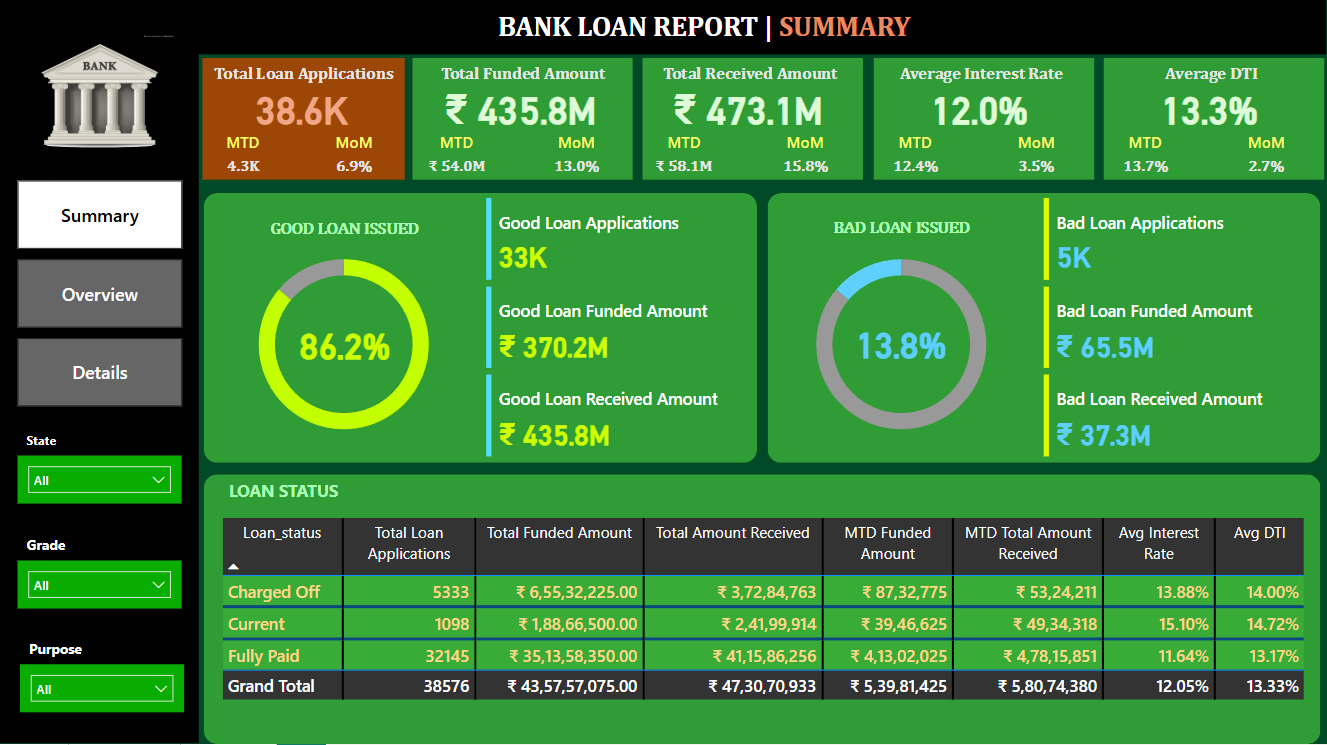

What the dashboard file says about the page in this screenshot:
{"tool":"powerbi","page":{"name":"Summary","canvas":[1280,720],"ordinal":0},"visuals":[{"type":"shape","box":[0,48.8,191.9,670.9],"z":0},{"type":"shape","box":[195.4,58.1,195.3,117.4],"z":0,"group":"g1"},{"type":"shape","box":[398.2,58.1,212.5,117.4],"z":0,"group":"g2"},{"type":"shape","box":[620.3,58.1,212.8,117.4],"z":0,"group":"g3"},{"type":"shape","box":[842.6,58.1,212.8,117.4],"z":0,"group":"g4"},{"type":"shape","box":[1064.9,58.1,212.8,117.4],"z":0,"group":"g5"},{"type":"card","fields":{"Values":["bank_loan_data.Total Loan Applications"]},"box":[191.9,76.7,198.8,59.3],"z":1000,"group":"g1"},{"type":"card","fields":{"Values":["bank_loan_data.Total Funded Amount"]},"box":[394.4,76.7,216.3,59.3],"z":1000,"group":"g2"},{"type":"card","fields":{"Values":["bank_loan_data.Total Amount Received"]},"box":[614.5,76.7,216.3,59.3],"z":1000,"group":"g3"},{"type":"card","fields":{"Values":["bank_loan_data.Avg Interest Rate"]},"box":[836.8,76.7,216.3,59.3],"z":1000,"group":"g4"},{"type":"card","fields":{"Values":["bank_loan_data.Avg DTI"]},"box":[1059.1,76.7,216.3,59.3],"z":1000,"group":"g5"},{"type":"shape","box":[196.5,459.3,1077.9,260.5],"z":1000},{"type":"textbox","box":[195.4,58.1,195.3,37.2],"z":2000,"group":"g1"},{"type":"textbox","box":[398.2,58.1,212.5,37.2],"z":2000,"group":"g2"},{"type":"textbox","box":[618.3,58.1,212.5,37.2],"z":2000,"group":"g3"},{"type":"textbox","box":[840.6,58.1,212.5,37.2],"z":2000,"group":"g4"},{"type":"textbox","box":[1062.9,58.1,212.5,37.2],"z":2000,"group":"g5"},{"type":"shape","box":[196.5,188.4,534,260.5],"z":2000},{"type":"shape","box":[0,0,1280,54.7],"z":3000},{"type":"card","title":"MTD","fields":{"Values":["bank_loan_data.MTD Loan Applications"]},"box":[195.4,129,77.9,46.5],"z":3000,"group":"g1"},{"type":"card","title":"MTD","fields":{"Values":["bank_loan_data.MTD Funded Amount"]},"box":[398.2,129,84.7,46.5],"z":3000,"group":"g2"},{"type":"card","title":"MTD","fields":{"Values":["bank_loan_data.MTD Total Amount Received"]},"box":[618.3,129,84.7,46.5],"z":3000,"group":"g3"},{"type":"card","title":"MTD","fields":{"Values":["bank_loan_data.MTD Avg Interest Rate"]},"box":[840.6,129,84.7,46.5],"z":3000,"group":"g4"},{"type":"card","title":"MTD","fields":{"Values":["bank_loan_data.MTD Avg DTI"]},"box":[1062.9,129,84.7,46.5],"z":3000,"group":"g5"},{"type":"card","title":"MoM","fields":{"Values":["bank_loan_data.MoM Loan Applications"]},"box":[302.4,129,77.9,46.5],"z":4000,"group":"g1"},{"type":"card","title":"MoM","fields":{"Values":["bank_loan_data.MoM Total Funded Amount"]},"box":[514.2,129,84.9,46.5],"z":4000,"group":"g2"},{"type":"card","title":"MoM","fields":{"Values":["bank_loan_data.MoM Total Amount Received"]},"box":[734.7,129,84.7,46.5],"z":4000,"group":"g3"},{"type":"card","title":"MoM","fields":{"Values":["bank_loan_data.MoM Avg Interest Rate"]},"box":[957,129,84.7,46.5],"z":4000,"group":"g4"},{"type":"card","title":"MoM","fields":{"Values":["bank_loan_data.MoM Avg DTI"]},"box":[1179.3,129,84.7,46.5],"z":4000,"group":"g5"},{"type":"donutChart","fields":{"Category":["bank_loan_data.Good vs Bad Loan"],"Y":["bank_loan_data.Total Loan Applications"]},"box":[208.1,226.7,246.5,215.1],"z":4000},{"type":"textbox","box":[233.7,208.1,195.3,37.2],"z":5000},{"type":"card","fields":{"Values":["bank_loan_data.Good Loan %"]},"box":[267.4,308.1,130.2,52.3],"z":6000},{"type":"textbox","box":[475.6,5.8,438.4,43],"z":7000},{"type":"group","id":"g1","title":"Group 1","box":[191.9,58.1,198.8,117.4],"z":8000},{"type":"group","id":"g2","title":"Group 1","box":[394.4,58.1,216.3,117.4],"z":9000},{"type":"group","id":"g3","title":"Group 1","box":[614.5,58.1,218.6,117.4],"z":10000},{"type":"group","id":"g4","title":"Group 1","box":[836.8,58.1,218.6,117.4],"z":11000},{"type":"group","id":"g5","title":"Group 1","box":[1059.1,58.1,218.6,117.4],"z":12000},{"type":"shape","box":[740.7,188.4,533.7,260.5],"z":13000},{"type":"cardVisual","fields":{"Data":["bank_loan_data.Good Loan Applications","bank_loan_data.Good Loan Funded Amount","bank_loan_data.Good Loan Received Amount"]},"box":[464,188.4,266.3,260.5],"z":14000},{"type":"donutChart","fields":{"Category":["bank_loan_data.Good vs Bad Loan"],"Y":["bank_loan_data.Total Loan Applications"]},"box":[746.5,226.5,246.5,215.1],"z":15000},{"type":"textbox","box":[772.1,207.9,195.3,37.2],"z":16000},{"type":"cardVisual","fields":{"Data":["bank_loan_data.Bad Loan Applications","bank_loan_data.Bad Loan Funded Amount","bank_loan_data.Bad Loan Received Amount"]},"box":[1002.3,188.1,266.3,260.5],"z":17000},{"type":"card","fields":{"Values":["bank_loan_data.Bad Loan %"]},"box":[804.7,307,130.2,52.3],"z":18000},{"type":"tableEx","fields":{"Values":["bank_loan_data.loan_status","bank_loan_data.Total Loan Applications","bank_loan_data.Total Funded Amount","bank_loan_data.Total Amount Received","bank_loan_data.MTD Funded Amount","bank_loan_data.MTD Total Amount Received","bank_loan_data.Avg Interest Rate","bank_loan_data.Avg DTI"]},"box":[208.1,496.5,1060.5,189.5],"z":19000},{"type":"textbox","box":[216.3,459.3,170.9,37.2],"z":20000},{"type":"slicer","fields":{"Values":["bank_loan_data.address_state"]},"box":[17.4,441.9,158.1,46.5],"z":21000},{"type":"textbox","box":[20.9,412.8,75.6,29.1],"z":22000},{"type":"slicer","fields":{"Values":["bank_loan_data.grade"]},"box":[17.4,543,158.1,46.5],"z":23000},{"type":"textbox","box":[20.9,514,75.6,29.1],"z":24000},{"type":"slicer","fields":{"Values":["bank_loan_data.purpose"]},"box":[19.1,643.3,158.1,46.5],"z":25000},{"type":"textbox","box":[22.6,614.2,75.6,29.1],"z":26000},{"type":"pageNavigator","box":[17.4,175.6,159.3,220.9],"z":27000},{"type":"image","box":[17.4,17.4,155.8,155.8],"z":28000}]}

Visuals, with their boxes in screenshot pixels (x1, y1, x2, y2), scaled from the page's 1280x720 canvas onto the 1327x745 screenshot:
shape: bbox=(0, 50, 199, 744)
shape: bbox=(203, 60, 405, 182)
shape: bbox=(413, 60, 633, 182)
shape: bbox=(643, 60, 864, 182)
shape: bbox=(874, 60, 1094, 182)
shape: bbox=(1104, 60, 1325, 182)
card - bank_loan_data.Total Loan Applications: bbox=(199, 79, 405, 141)
card - bank_loan_data.Total Funded Amount: bbox=(409, 79, 633, 141)
card - bank_loan_data.Total Amount Received: bbox=(637, 79, 861, 141)
card - bank_loan_data.Avg Interest Rate: bbox=(868, 79, 1092, 141)
card - bank_loan_data.Avg DTI: bbox=(1098, 79, 1322, 141)
shape: bbox=(204, 475, 1321, 744)
textbox: bbox=(203, 60, 405, 99)
textbox: bbox=(413, 60, 633, 99)
textbox: bbox=(641, 60, 861, 99)
textbox: bbox=(871, 60, 1092, 99)
textbox: bbox=(1102, 60, 1322, 99)
shape: bbox=(204, 195, 757, 464)
shape: bbox=(0, 0, 1326, 57)
"MTD" card: bbox=(203, 133, 283, 182)
"MTD" card: bbox=(413, 133, 501, 182)
"MTD" card: bbox=(641, 133, 729, 182)
"MTD" card: bbox=(871, 133, 959, 182)
"MTD" card: bbox=(1102, 133, 1190, 182)
"MoM" card: bbox=(314, 133, 394, 182)
"MoM" card: bbox=(533, 133, 621, 182)
"MoM" card: bbox=(762, 133, 849, 182)
"MoM" card: bbox=(992, 133, 1080, 182)
"MoM" card: bbox=(1223, 133, 1310, 182)
donutChart - bank_loan_data.Good vs Bad Loan x bank_loan_data.Total Loan Applications: bbox=(216, 235, 471, 457)
textbox: bbox=(242, 215, 445, 254)
card - bank_loan_data.Good Loan %: bbox=(277, 319, 412, 373)
textbox: bbox=(493, 6, 948, 50)
"Group 1" group: bbox=(199, 60, 405, 182)
"Group 1" group: bbox=(409, 60, 633, 182)
"Group 1" group: bbox=(637, 60, 864, 182)
"Group 1" group: bbox=(868, 60, 1094, 182)
"Group 1" group: bbox=(1098, 60, 1325, 182)
shape: bbox=(768, 195, 1321, 464)
cardVisual - bank_loan_data.Good Loan Applications x bank_loan_data.Good Loan Funded Amount: bbox=(481, 195, 757, 464)
donutChart - bank_loan_data.Good vs Bad Loan x bank_loan_data.Total Loan Applications: bbox=(774, 234, 1029, 457)
textbox: bbox=(800, 215, 1003, 254)
cardVisual - bank_loan_data.Bad Loan Applications x bank_loan_data.Bad Loan Funded Amount: bbox=(1039, 195, 1315, 464)
card - bank_loan_data.Bad Loan %: bbox=(834, 318, 969, 372)
tableEx - bank_loan_data.loan_status x bank_loan_data.Total Loan Applications: bbox=(216, 514, 1315, 710)
textbox: bbox=(224, 475, 401, 514)
slicer - bank_loan_data.address_state: bbox=(18, 457, 182, 505)
textbox: bbox=(22, 427, 100, 457)
slicer - bank_loan_data.grade: bbox=(18, 562, 182, 610)
textbox: bbox=(22, 532, 100, 562)
slicer - bank_loan_data.purpose: bbox=(20, 666, 184, 714)
textbox: bbox=(23, 636, 102, 666)
pageNavigator: bbox=(18, 182, 183, 410)
image: bbox=(18, 18, 180, 179)
